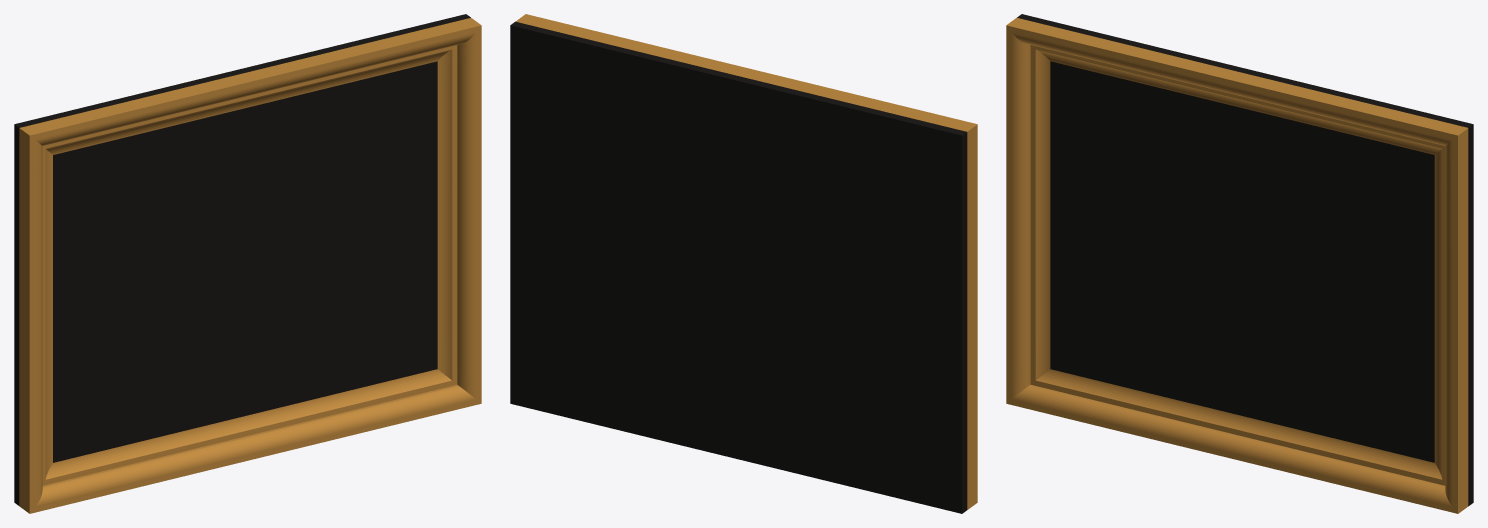
File: picture_frame.glb
3 views of the same model, side by side, from view 1: azimuth 30°, elevation 25°; view 2: azimuth 150°, elevation 25°; view 3: azimuth 330°, elevation 25° (orthographic).
Parts seen in each view (by area): view 1: frame.001_3, back panel.001_2; view 2: frame.001_3, back panel.001_2; view 3: frame.001_3, back panel.001_2.
Boxes of the visible parts, box(x1,y1,x2,y2) form: frame.001_3: box(14, 14, 470, 505); back panel.001_2: box(19, 18, 481, 513); frame.001_3: box(510, 21, 967, 513); back panel.001_2: box(516, 14, 977, 509); frame.001_3: box(1017, 14, 1473, 506); back panel.001_2: box(1006, 17, 1468, 513).
Size of the model in its own units: 250 by 200 by 14.89.
